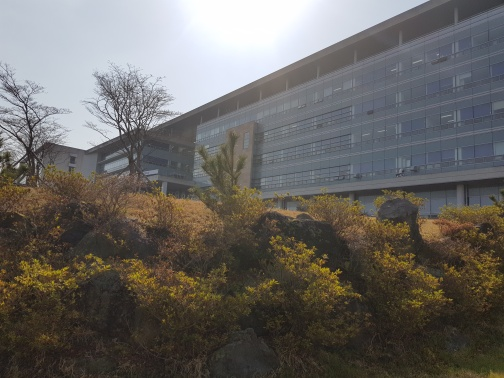Engineering College Building 4: (56, 86, 504, 190), (344, 11, 494, 207), (225, 59, 335, 203)
